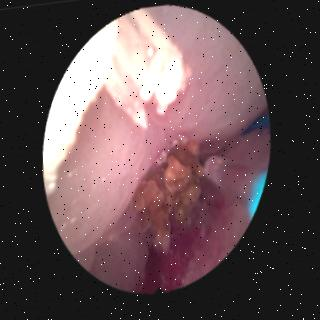fiber: (251, 175, 268, 219)
stone: (106, 11, 186, 128), (135, 143, 205, 254)
tissue: (52, 10, 267, 291)
